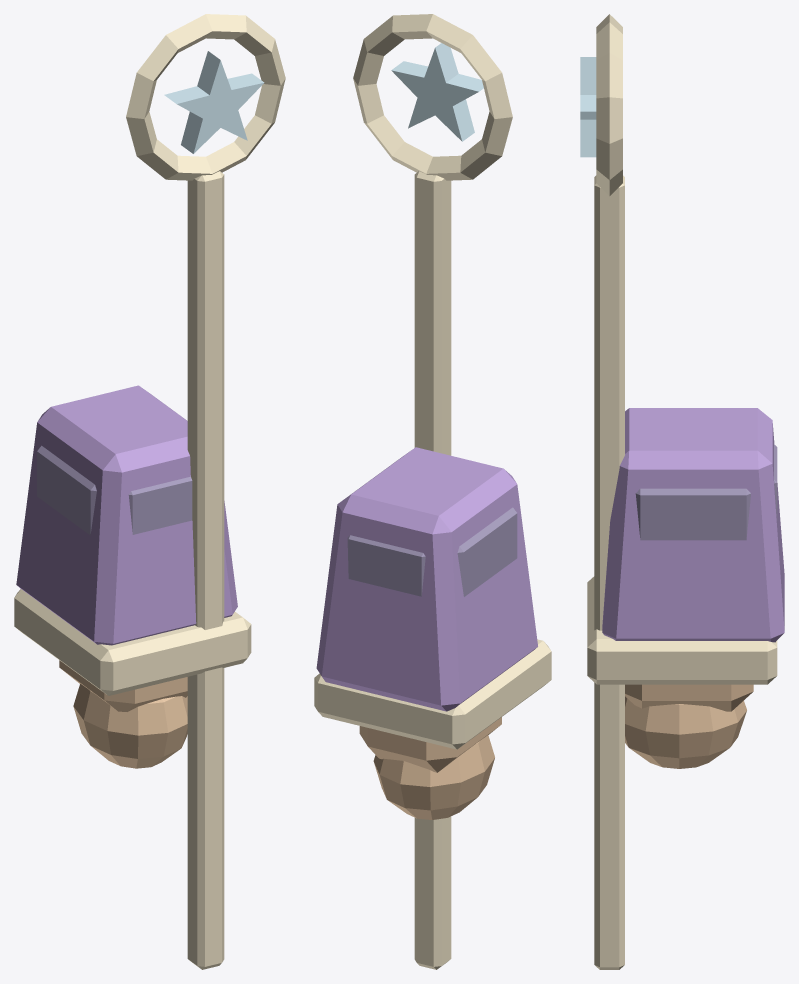
The model's file is Oracle_Peasant_RightArm.fbx.
3 renders of one model, left to right at view 1: azimuth 30°, elevation 25°; view 2: azimuth 150°, elevation 25°; view 3: azimuth 270°, elevation 25°, orthographic.
Parts seen in each view (by area): view 1: Oracle_Peasant_RightArm; view 2: Oracle_Peasant_RightArm; view 3: Oracle_Peasant_RightArm.
Part boxes in pixels (x1,y1,x2,y2): Oracle_Peasant_RightArm: [14, 14, 285, 969]; Oracle_Peasant_RightArm: [314, 14, 551, 969]; Oracle_Peasant_RightArm: [580, 14, 784, 969].
Bounding box in the file's own units: 39.4 × 186 × 36.58.
